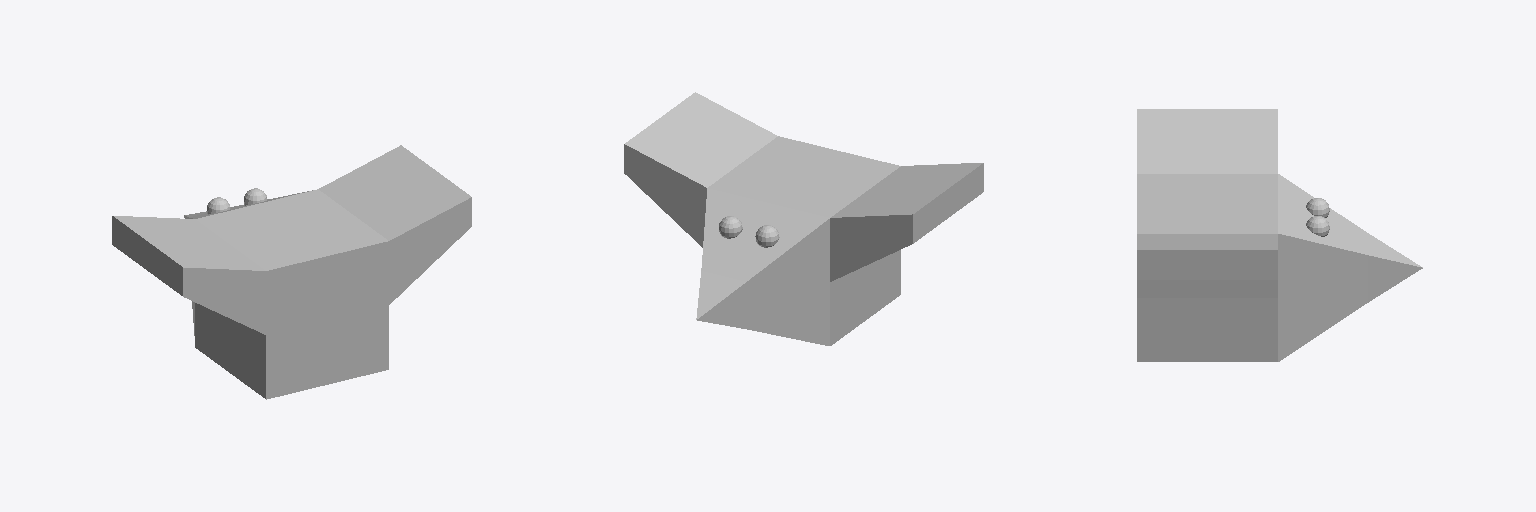
File: generic_object_flyer.obj
3 renders of one model, left to right at view 1: azimuth 30°, elevation 25°; view 2: azimuth 150°, elevation 25°; view 3: azimuth 270°, elevation 25°, orthographic.
Visible parts, largest first — view 1: Cube, Sphere.001_Sphere.002; view 2: Cube, tip_Cube.001, Sphere.001_Sphere.002; view 3: Cube, tip_Cube.001, Sphere.001_Sphere.002.
Boxes of the visible parts, box(x1,y1,x2,y2) form: Cube: box(112, 145, 471, 399); Sphere.001_Sphere.002: box(207, 188, 267, 214); Cube: box(624, 92, 983, 345); tip_Cube.001: box(696, 271, 746, 328); Sphere.001_Sphere.002: box(719, 216, 779, 247); Cube: box(1137, 109, 1367, 361); tip_Cube.001: box(1368, 233, 1422, 302); Sphere.001_Sphere.002: box(1306, 198, 1329, 236).
Bounding box in the file's own units: 4.7 × 2.37 × 4.04.